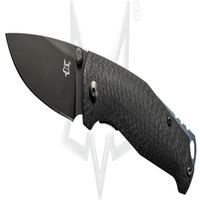knife: (2, 25, 197, 184)
